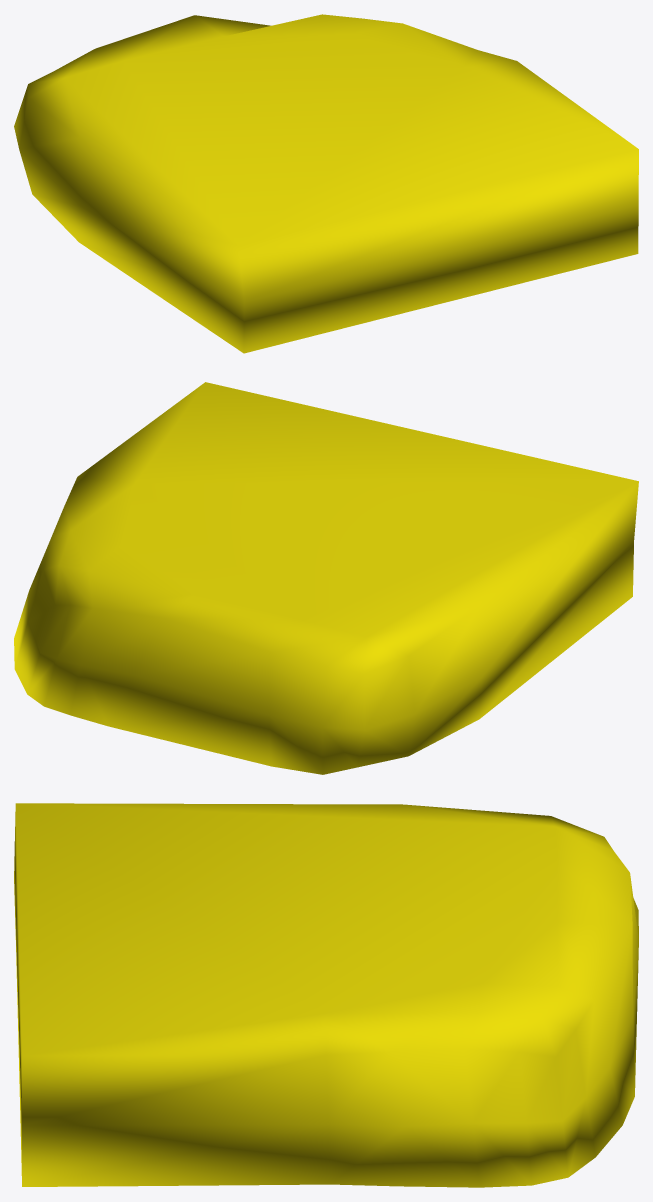
File: Pillar_Block_03_Lod0.fbx
3 renders of one model, top to bottom at view 1: azimuth 30°, elevation 25°; view 2: azimuth 150°, elevation 25°; view 3: azimuth 270°, elevation 25°, orthographic. The views are drawn at different scales.
Parts seen in each view (by area): view 1: Pillar_Block_03_Lod0; view 2: Pillar_Block_03_Lod0; view 3: Pillar_Block_03_Lod0.
Part boxes in pixels (x1,y1,x2,y2): Pillar_Block_03_Lod0: (14,14,638,353); Pillar_Block_03_Lod0: (14,382,638,774); Pillar_Block_03_Lod0: (14,803,638,1187).
Size of the model in its own units: 564 by 169 by 593.
